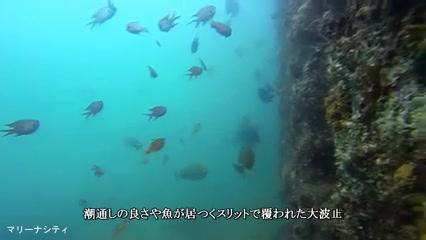mezina: (83, 1, 122, 36), (1, 113, 46, 140), (153, 8, 181, 40), (142, 97, 167, 123), (78, 95, 105, 119), (182, 64, 208, 82)
